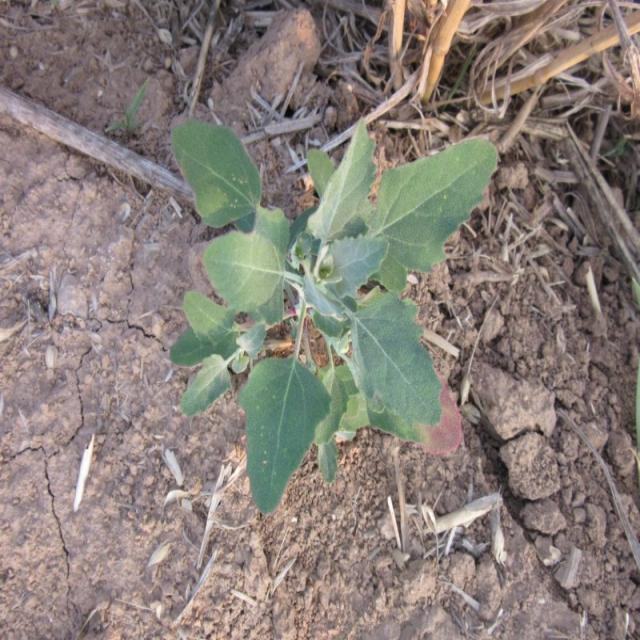ca: (171, 111, 500, 517)
